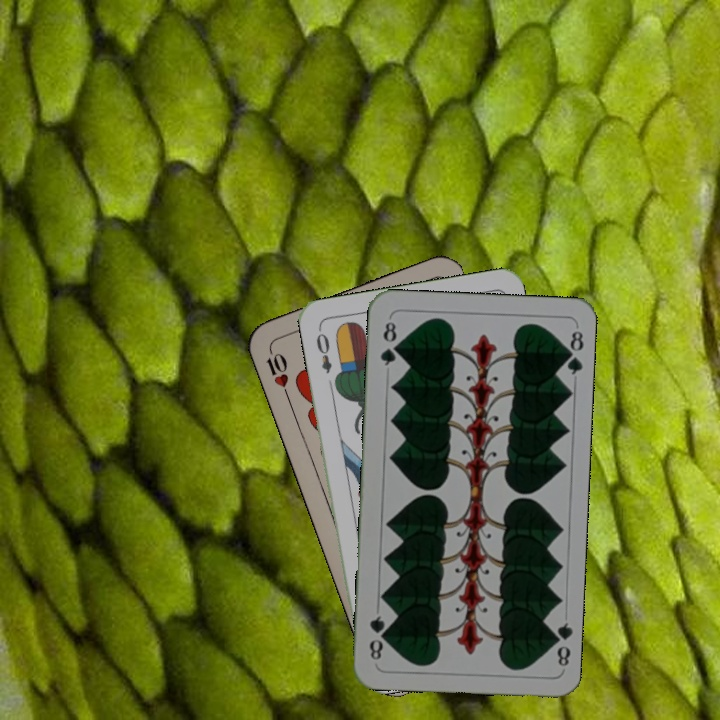EO: (312, 324, 334, 376)
G8: (546, 618, 574, 669), (376, 317, 401, 368)
H10: (262, 344, 292, 401)
